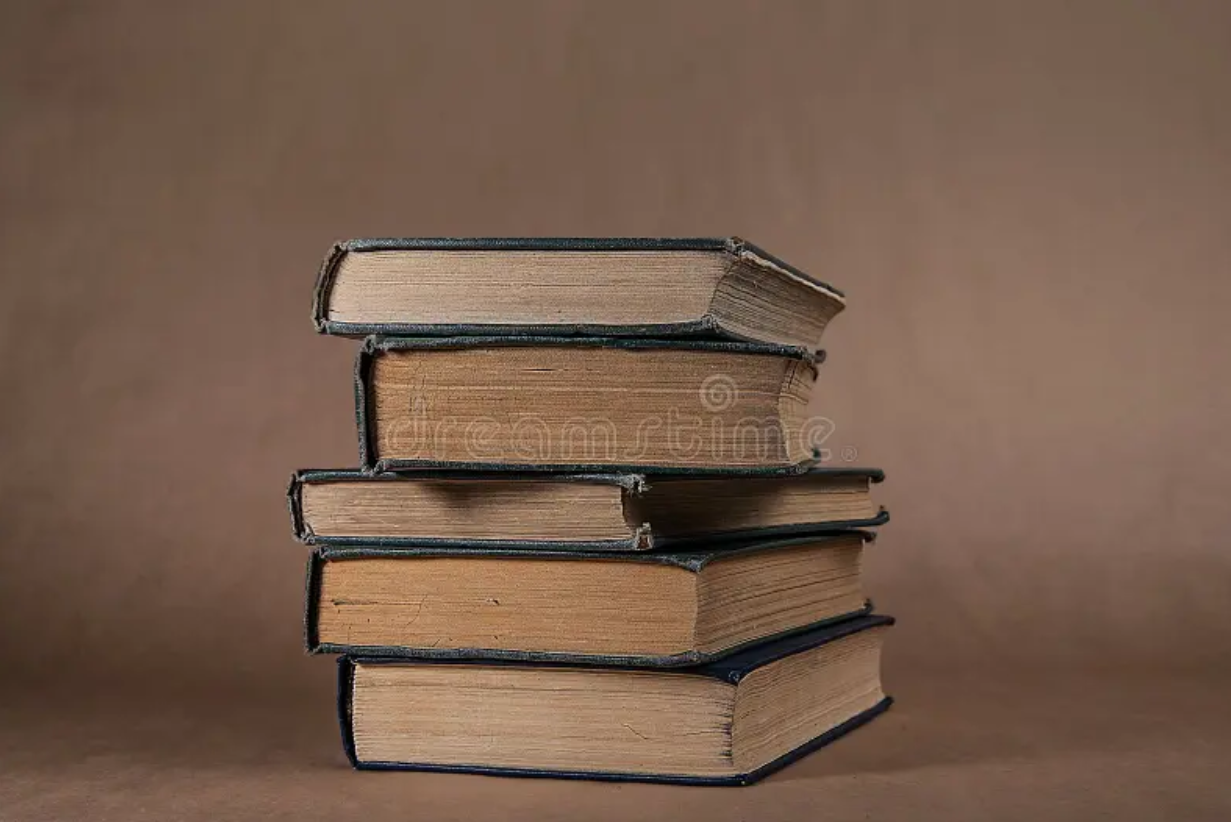book: (326, 651, 902, 786), (302, 541, 890, 658), (347, 333, 828, 472), (315, 231, 863, 346), (276, 472, 894, 532)
